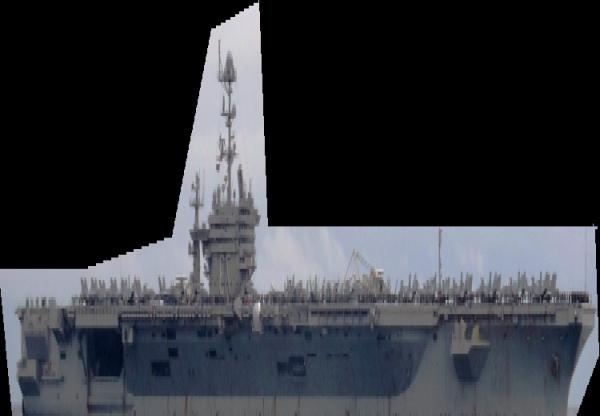Aircraft Carrier: (0, 1, 599, 416)
